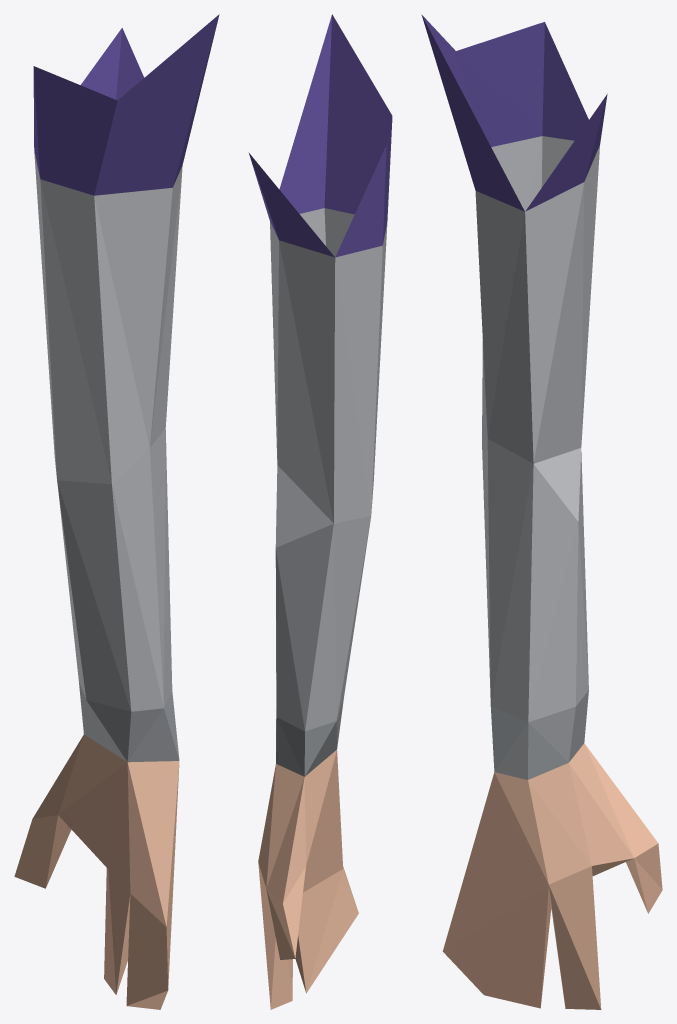
Rendered from ArmR.obj.
3 views of the same model, side by side, from view 1: azimuth 30°, elevation 25°; view 2: azimuth 150°, elevation 25°; view 3: azimuth 270°, elevation 25° (orthographic). The views are drawn at different scales.
Bounding box in the file's own units: 0.1269 × 0.8981 × 0.1945.
1 material, 1 textured.
